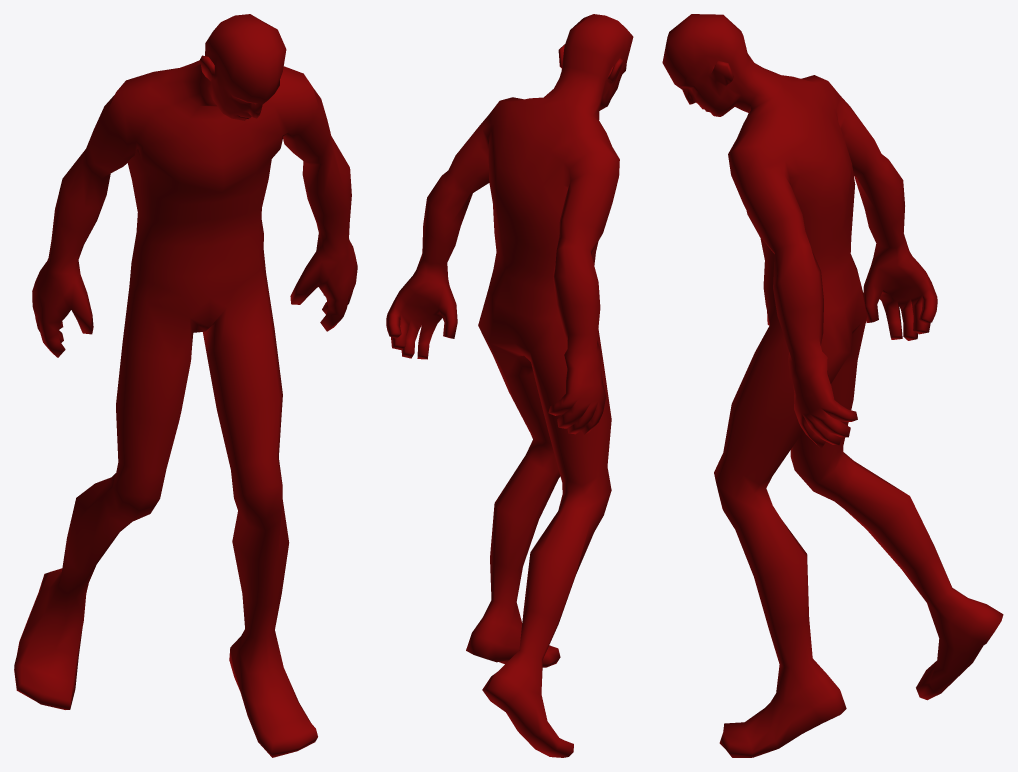
Rendered from attack_2.obj.
3 views of the same model, side by side, from view 1: azimuth 30°, elevation 25°; view 2: azimuth 150°, elevation 25°; view 3: azimuth 270°, elevation 25° (orthographic). The views are drawn at different scales.
Visible parts, largest first — view 1: Low_Poly_Characte.000_Mesh.001; view 2: Low_Poly_Characte.000_Mesh.001; view 3: Low_Poly_Characte.000_Mesh.001.
Part boxes in pixels (x1,y1,x2,y2): Low_Poly_Characte.000_Mesh.001: (14, 14, 357, 757); Low_Poly_Characte.000_Mesh.001: (386, 14, 633, 757); Low_Poly_Characte.000_Mesh.001: (662, 14, 1003, 757).
Size of the model in its own units: 1.16 by 3.01 by 1.31.
